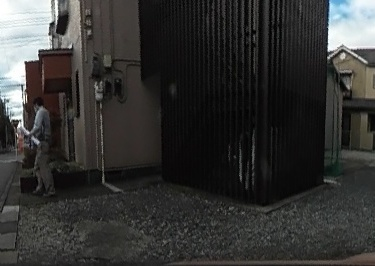person: (27, 97, 53, 196)
